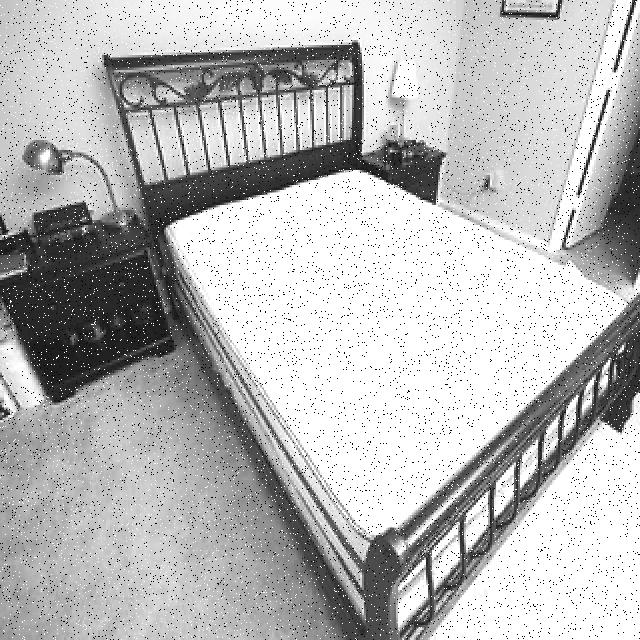bed: (165, 164, 616, 601)
